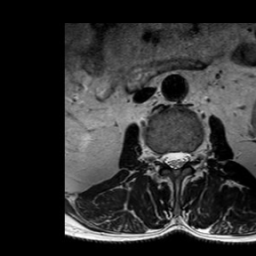CCS_normal: (170, 144, 179, 179)
LFS_normal: (188, 142, 196, 168)
LLS_normal: (179, 144, 188, 173)
RFS_normal: (153, 141, 162, 172)
RLS_normal: (162, 144, 170, 174)
